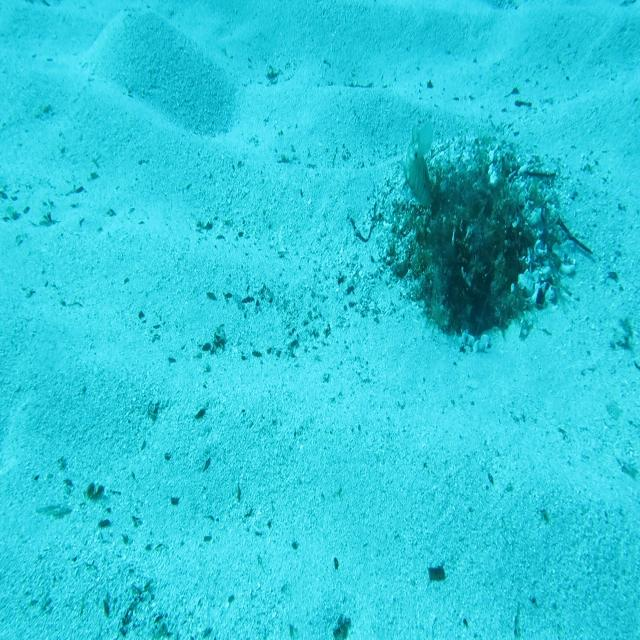NIP_IN: (400, 118, 436, 212)
core_nest: (460, 183, 514, 224)
nest: (368, 118, 583, 360)
